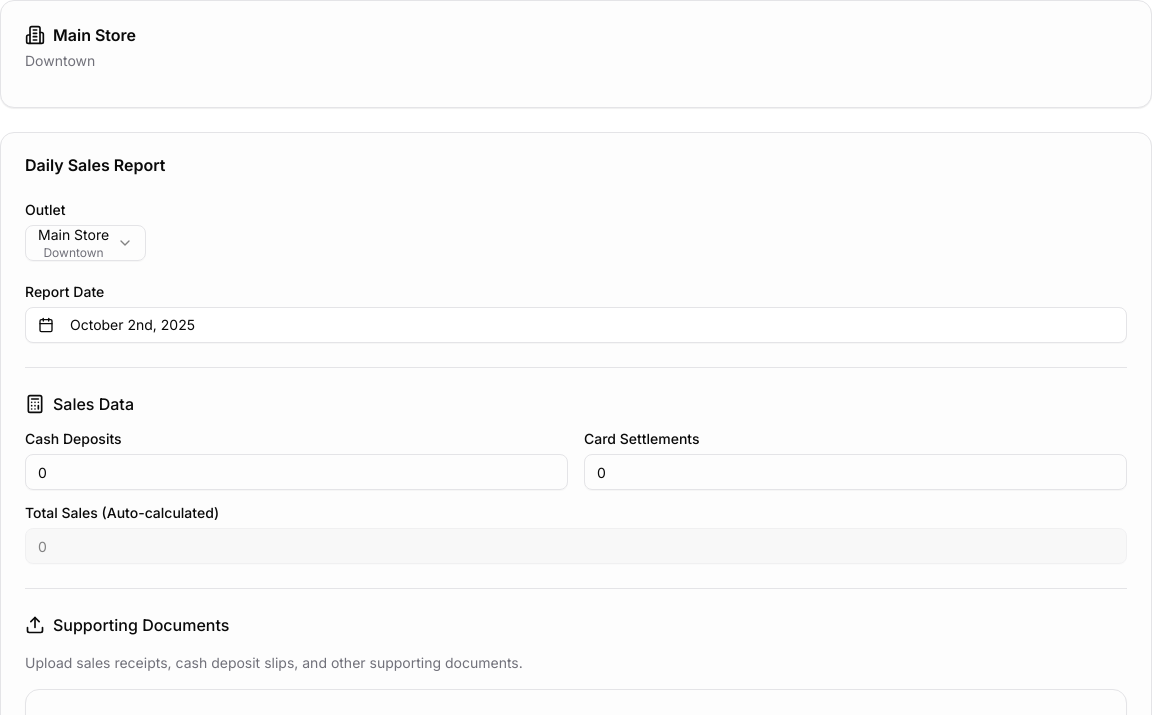
SalesReportForm › Form Submission › handles submission errors gracefully
In the number field labelled "Cash Deposits": {"x": 296, "y": 472} [25, 454, 568, 490], type "100"
(page scrolled)
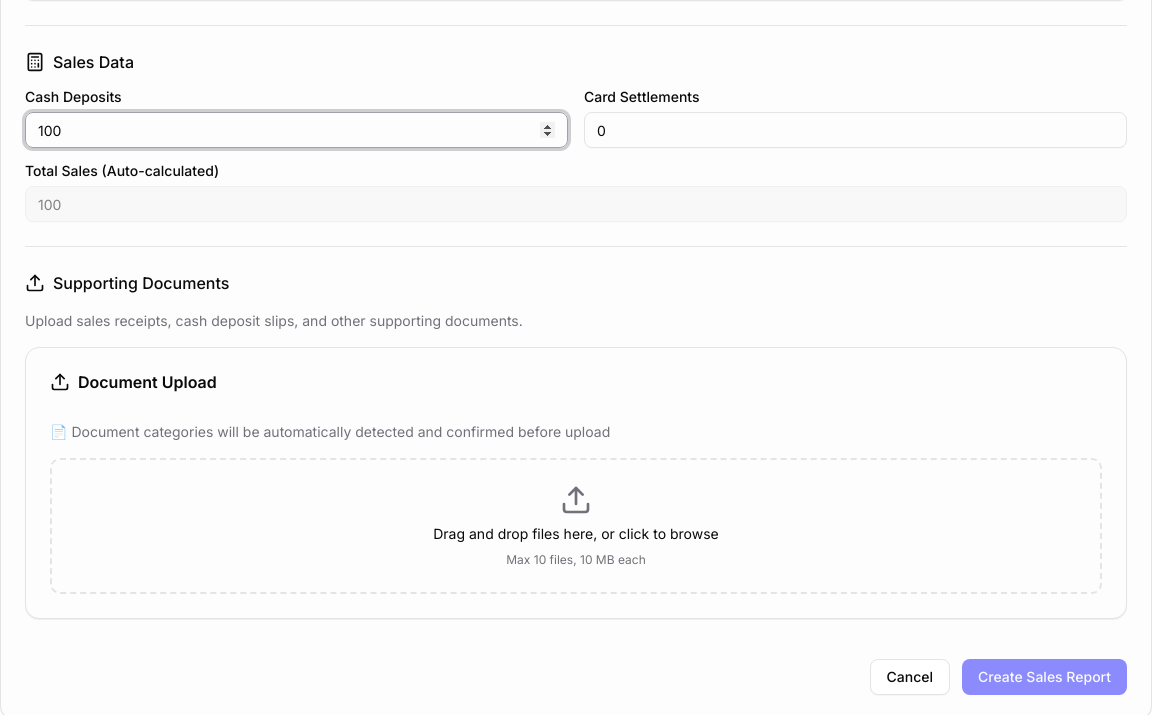
Click the button "Create Sales Report": {"x": 1044, "y": 677} [962, 659, 1127, 695]
(page scrolled)
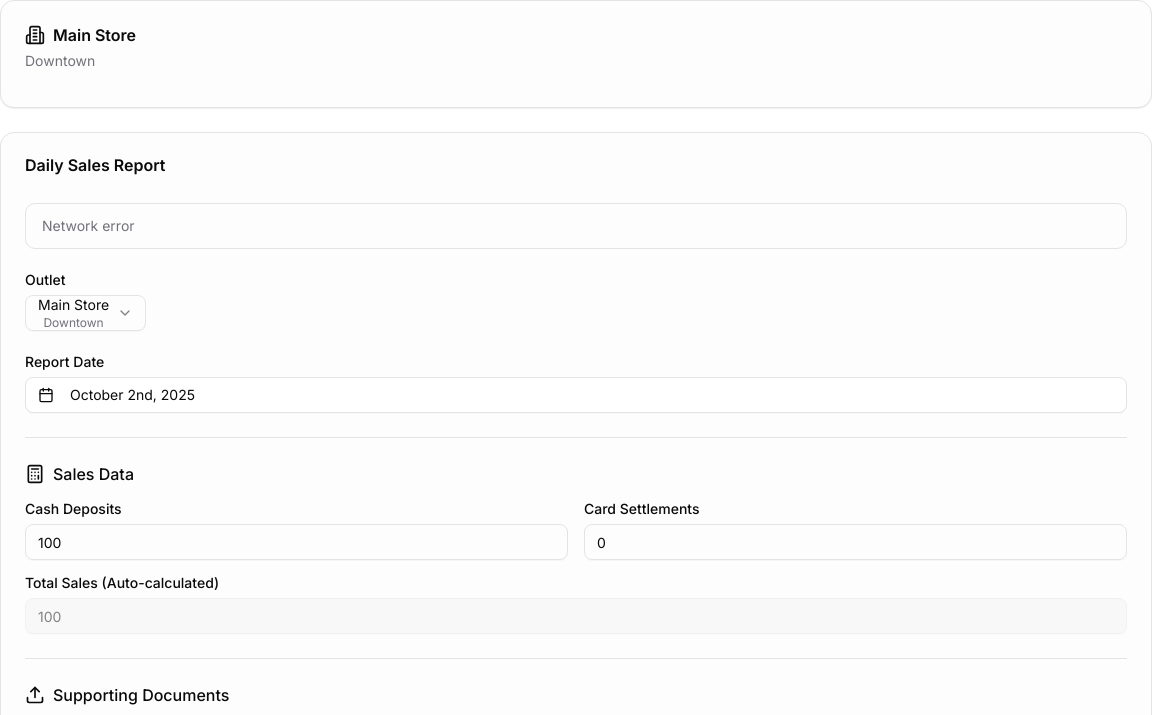
Result: the text "Network error" is shown at [42, 217, 135, 234]
